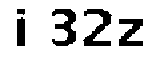2: (82, 9, 114, 51)
3: (48, 7, 79, 50)
i: (12, 2, 34, 51)
z: (116, 16, 147, 52)
